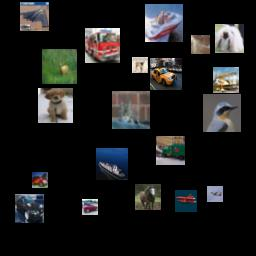airplane: (20, 2, 49, 31), (213, 67, 239, 93), (175, 190, 197, 212), (207, 186, 223, 202)
automobile: (150, 58, 182, 90), (15, 194, 44, 223), (82, 199, 98, 215), (32, 172, 48, 188)
bird: (203, 94, 241, 132)
cat: (112, 91, 150, 129), (191, 35, 210, 54)
deer: (42, 49, 77, 84), (132, 57, 148, 73)
dog: (38, 88, 73, 123), (215, 24, 244, 53)
ship: (145, 4, 183, 42), (96, 148, 128, 180)
truck: (85, 28, 120, 63), (156, 136, 185, 165)
